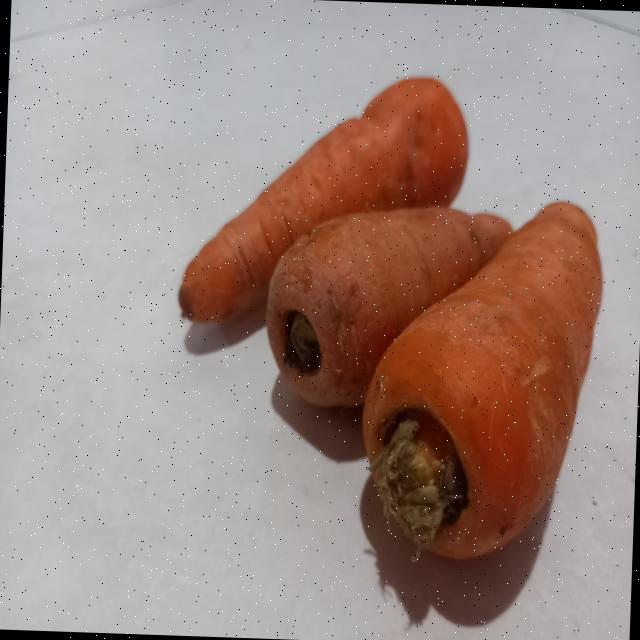carrot: (362, 202, 602, 558), (178, 78, 468, 321), (266, 207, 512, 407)
